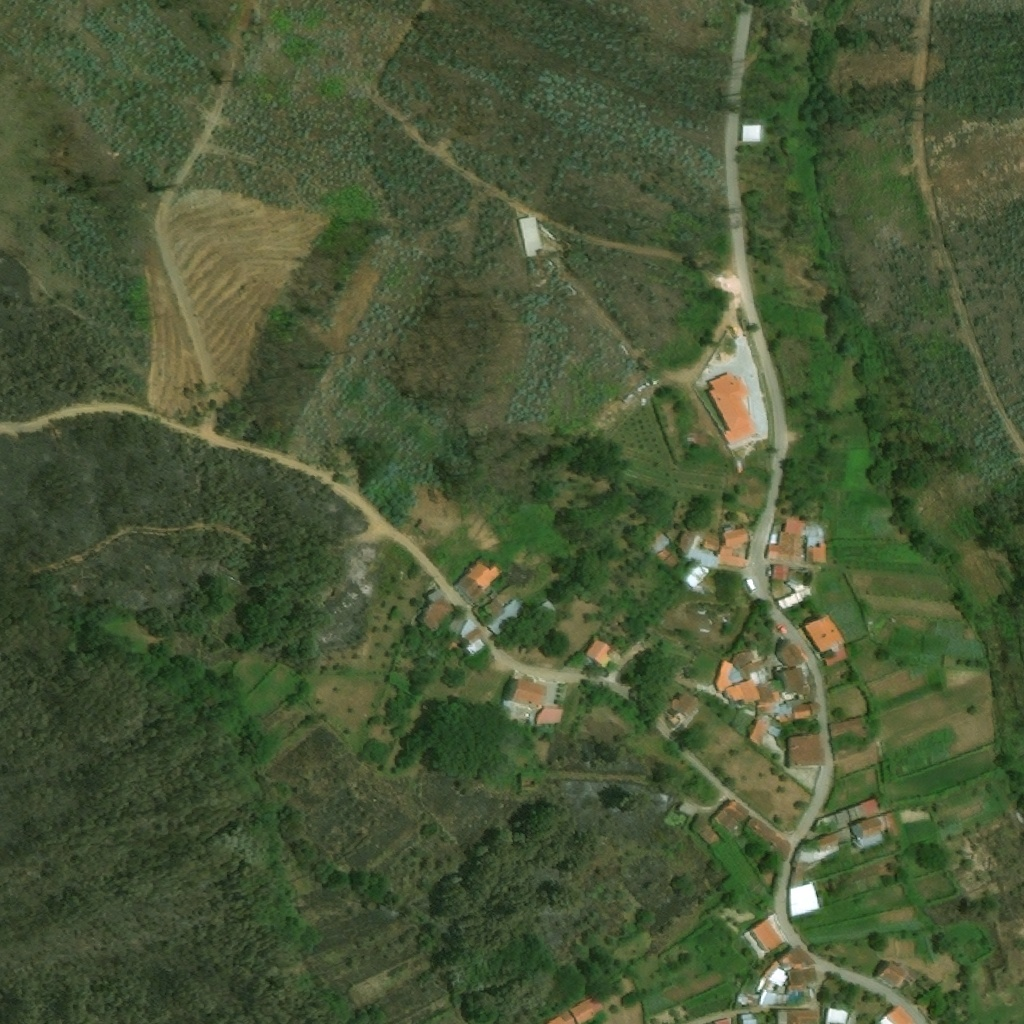0 no-damage: (708, 372, 755, 445), (816, 798, 880, 834), (454, 560, 505, 604), (744, 817, 790, 860), (417, 587, 459, 634), (483, 597, 527, 636), (803, 615, 846, 653), (786, 733, 822, 768), (713, 800, 750, 834), (776, 578, 812, 612), (878, 961, 917, 991), (851, 817, 884, 850), (751, 920, 783, 954), (511, 678, 549, 706), (829, 716, 871, 741), (790, 883, 820, 917), (778, 944, 817, 970), (585, 637, 617, 668), (570, 995, 605, 1023), (722, 679, 761, 704), (518, 218, 541, 255), (778, 532, 804, 564), (682, 564, 711, 591), (778, 641, 806, 668), (684, 549, 719, 570), (449, 612, 476, 639), (671, 693, 699, 719), (749, 717, 772, 747), (655, 546, 681, 571), (789, 969, 822, 988), (716, 659, 735, 691), (782, 668, 805, 694), (720, 547, 747, 569), (793, 702, 821, 721), (757, 684, 780, 707), (741, 123, 765, 145), (886, 1006, 915, 1023), (805, 524, 827, 546), (537, 708, 565, 725), (723, 528, 748, 547), (779, 698, 801, 718), (817, 833, 840, 852), (806, 543, 827, 563), (733, 652, 755, 671), (788, 1010, 820, 1023), (824, 650, 848, 667), (688, 433, 713, 449), (784, 518, 806, 536), (826, 1007, 850, 1023), (739, 663, 761, 680), (762, 961, 781, 980), (467, 638, 487, 656), (465, 627, 485, 644), (790, 866, 804, 889), (548, 1013, 577, 1023), (771, 565, 788, 581), (702, 538, 720, 552), (766, 545, 779, 561), (847, 1012, 861, 1023), (741, 1014, 758, 1023), (777, 1009, 787, 1023), (770, 534, 779, 544), (725, 526, 737, 533)
4 un-classified: (534, 599, 559, 624)
